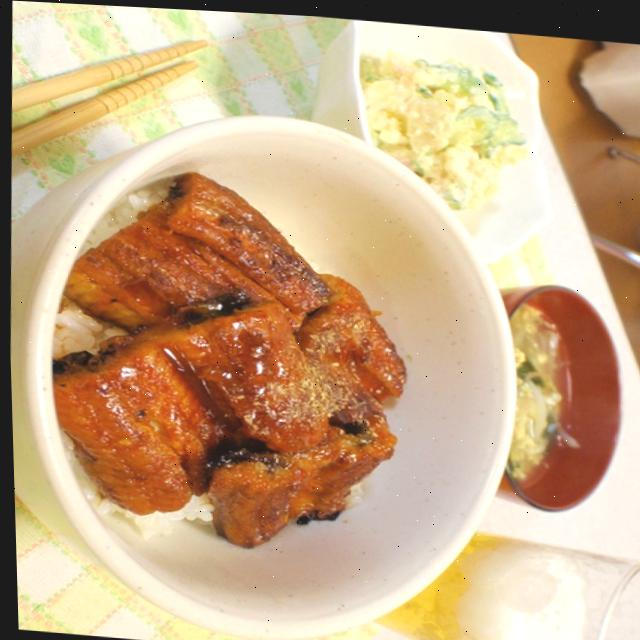熟制海鲜: (7, 79, 527, 640)
